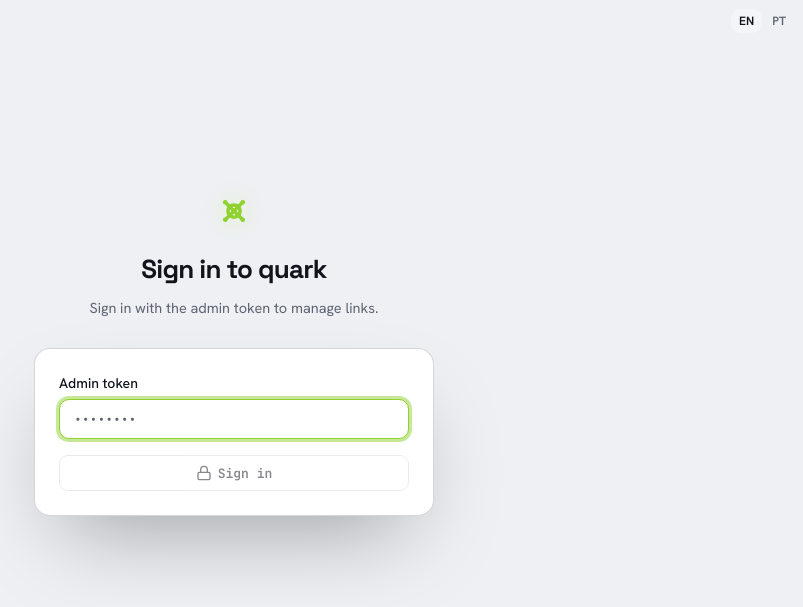
Login › network/5xx error shows a generic connection message, not 'invalid token'
The image size is (803, 607).
Type "secret" into the password field labelled "Admin token".
click(234, 419); type("secret")  # box [59,399,409,439]
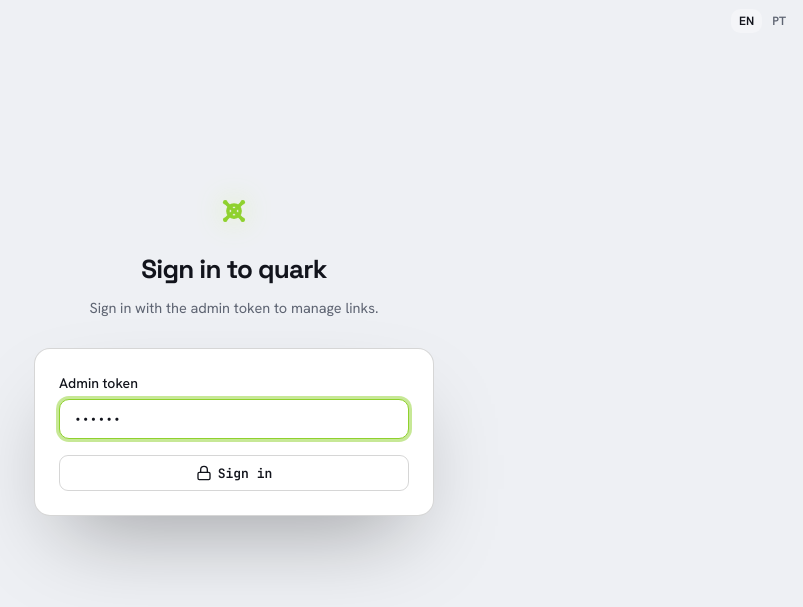
Click the button "Sign in".
click(234, 473)  # box [59,455,409,491]
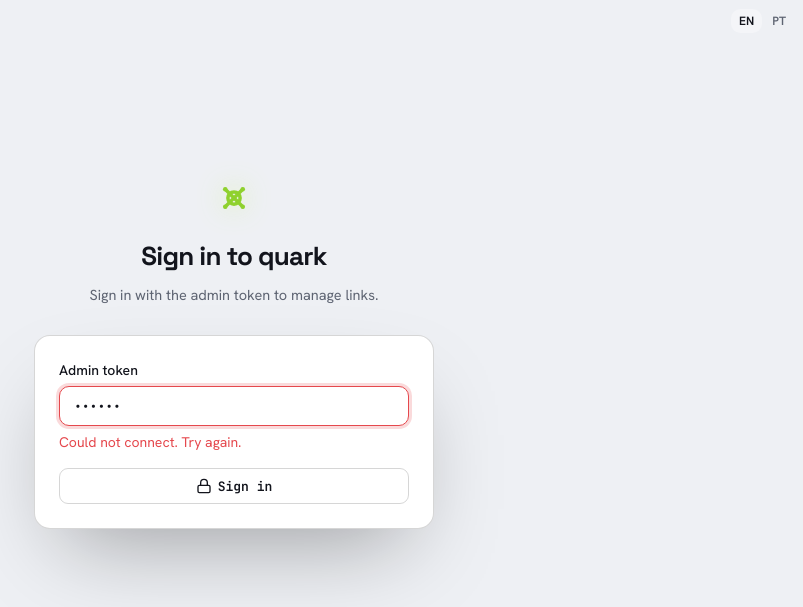
Expected: the text "Could not connect. Try again." is shown, [59,433,242,451]
